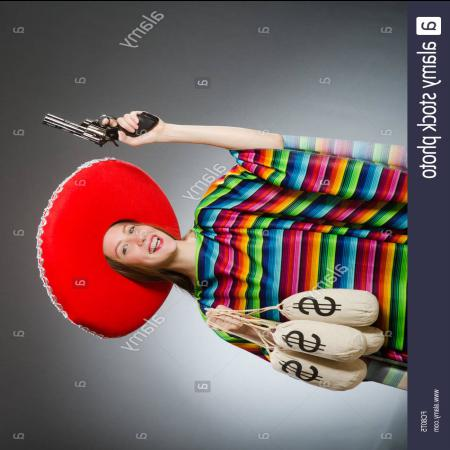Pistol: (36, 98, 158, 146)
